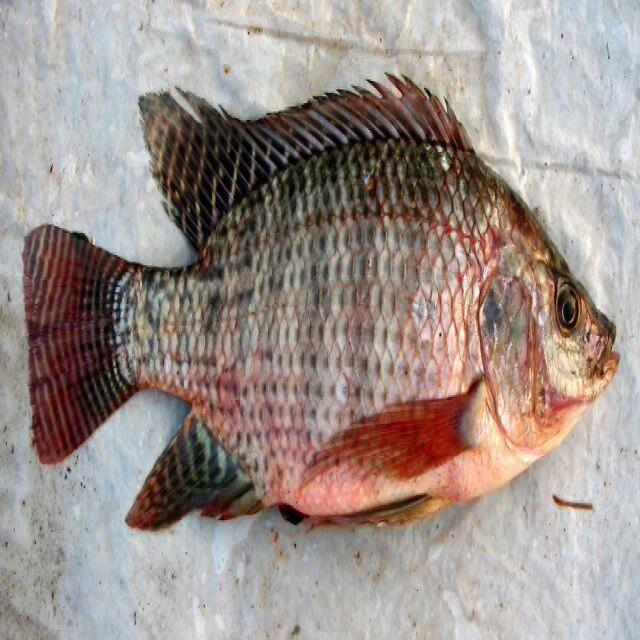ikan: (12, 54, 626, 588)
